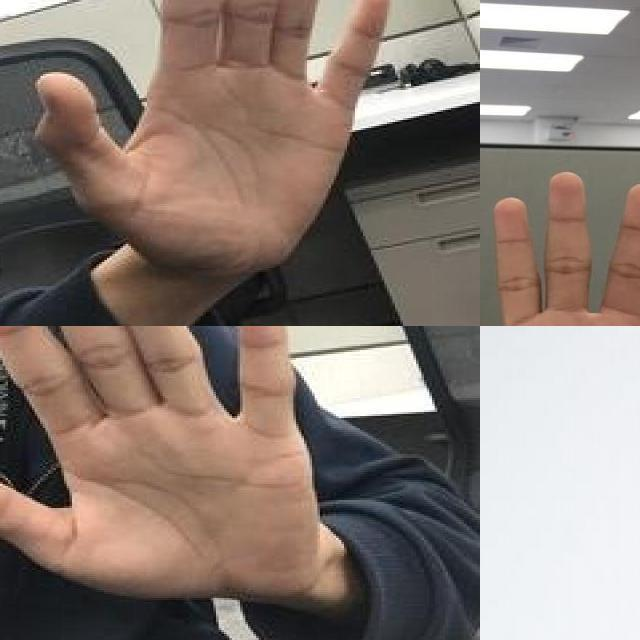no-gloves: (37, 0, 397, 276), (0, 326, 323, 598), (480, 168, 640, 326)
